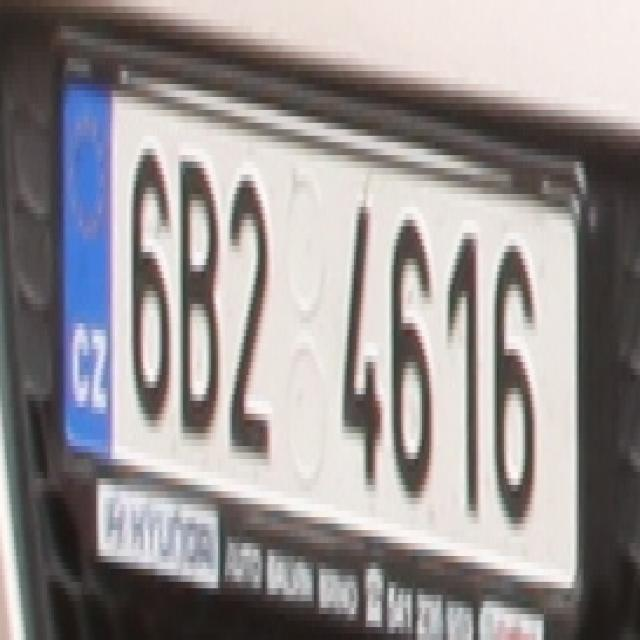1: (448, 220, 486, 530)
2: (227, 174, 272, 472)
4: (338, 200, 382, 498)
6: (492, 239, 540, 537), (386, 220, 432, 504), (131, 148, 171, 420)
B: (176, 162, 220, 434)
